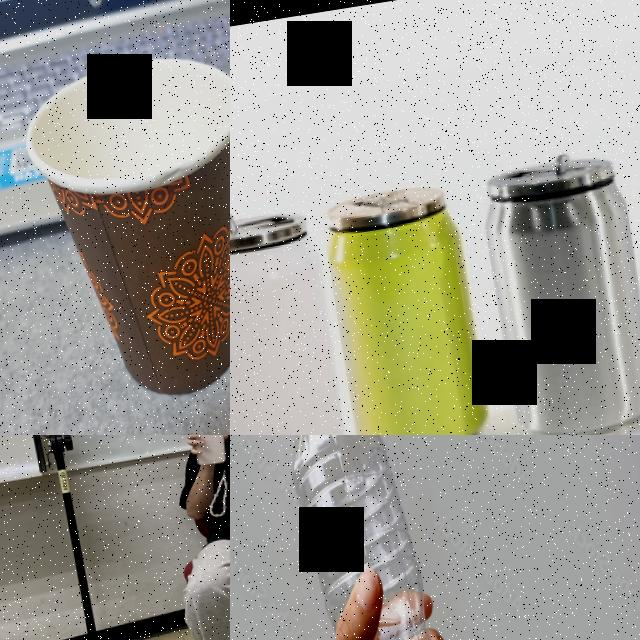bottle: (266, 435, 506, 640)
can: (474, 153, 640, 435), (315, 179, 497, 435), (230, 208, 356, 435)
cup: (17, 46, 230, 418)
